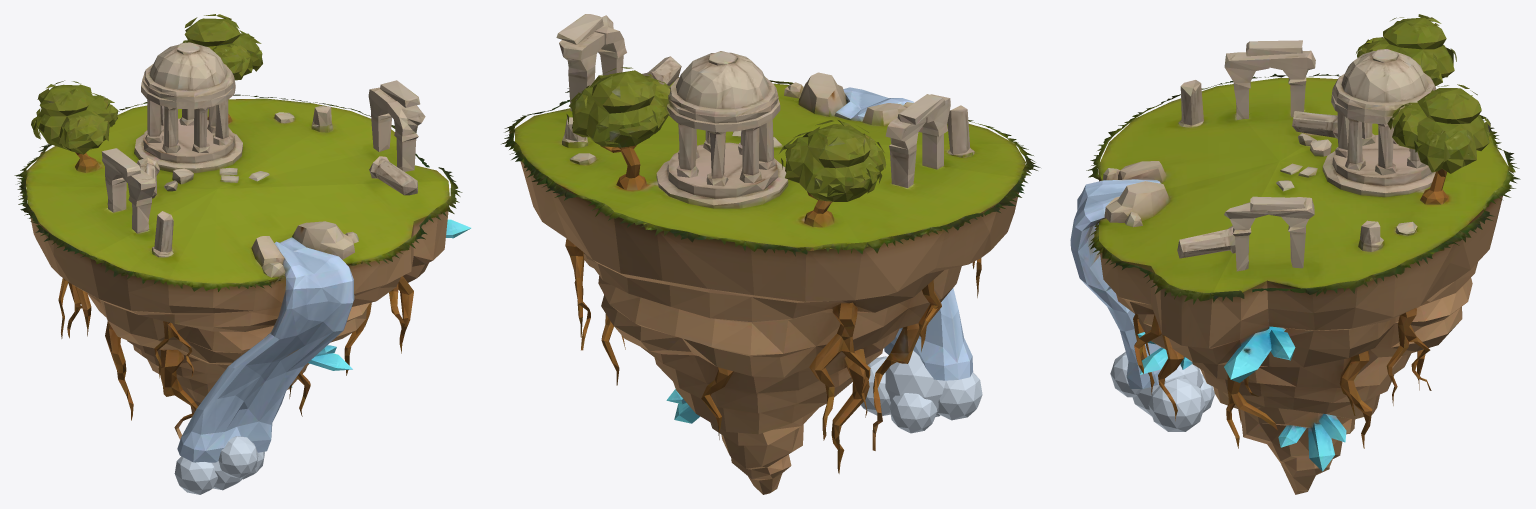
The model's file is skyisle.glb.
3 renders of one model, left to right at view 1: azimuth 30°, elevation 25°; view 2: azimuth 150°, elevation 25°; view 3: azimuth 270°, elevation 25°, orthographic. The views are drawn at different scales.
Parts seen in each view (by area): view 1: skyisle; view 2: skyisle; view 3: skyisle.
Part boxes in pixels (x1,y1,x2,y2): skyisle: [14, 14, 471, 494]; skyisle: [501, 14, 1040, 494]; skyisle: [1070, 14, 1520, 494].
Bounding box in the file's own units: 84 × 76.53 × 71.11.
1 material, 1 textured.
